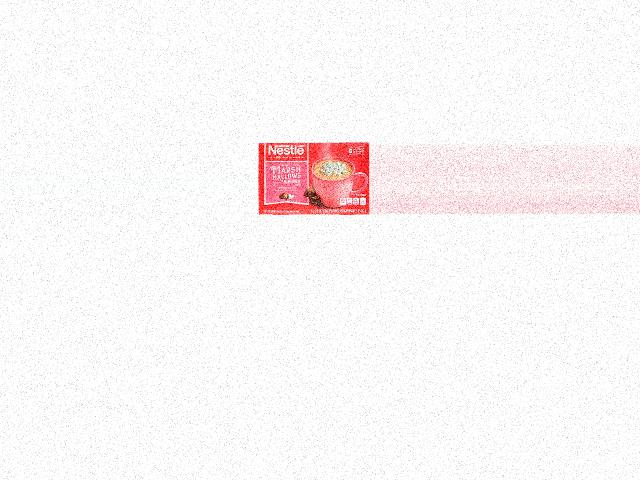chocolate: (261, 145, 370, 219)
